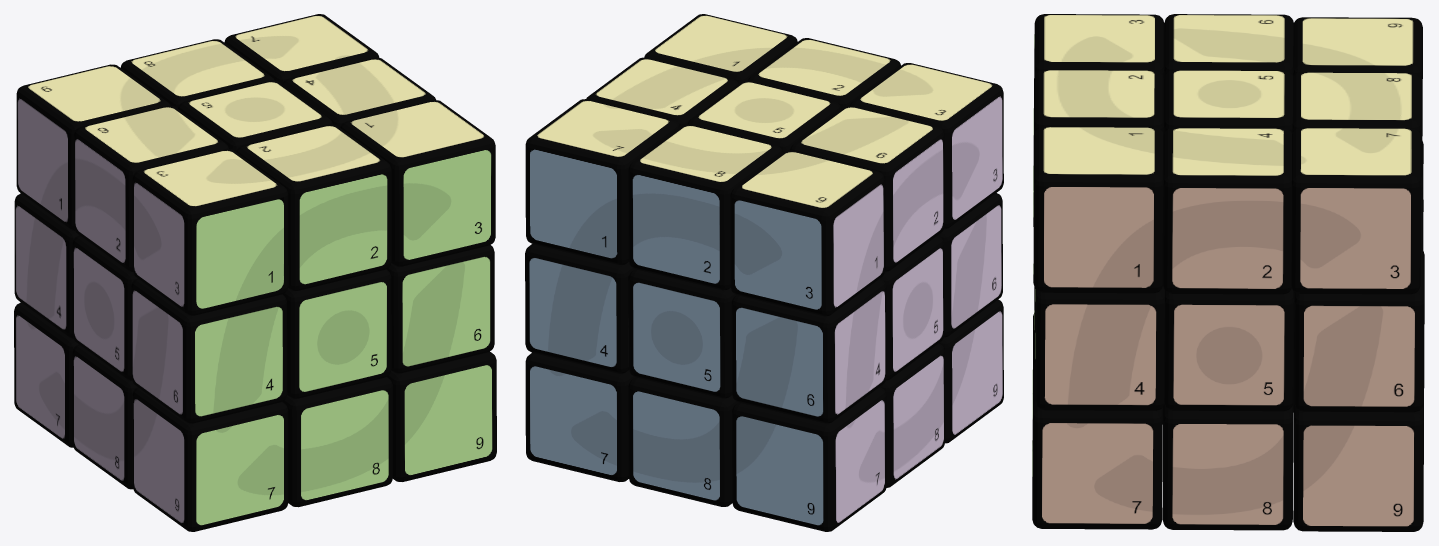
The model's file is Rubix_cube_name_s_cube_default_pastel.glb.
3 renders of one model, left to right at view 1: azimuth 30°, elevation 25°; view 2: azimuth 150°, elevation 25°; view 3: azimuth 270°, elevation 25°, orthographic. The views are drawn at different scales.
Visible parts, largest first — view 1: s3_block_9, s3_block_6, s3_block_2, s3_block_3, s3_block_5, s3_block_8, s3_block_7, s3_block_4, s3_block_1, top_block_3, s4_block_1, s4_block_6 (+34 smaller); view 2: s1_block_9, s1_block_4, s1_block_3, s1_block_5, s1_block_8, s1_block_6, s1_block_2, s1_block_1, s1_block_7, top_block_9, s4_block_5, s4_block_4 (+34 smaller); view 3: s2_block_5, s2_block_9, s2_block_3, s2_block_8, s2_block_2, s2_block_6, s2_block_4, s2_block_1, s2_block_7, top_block_1, top_block_7, top_block_4 (+21 smaller).
Boxes of the visible parts, bbox=[...] form: s3_block_9: bbox=[404, 364, 492, 476]; s3_block_6: bbox=[402, 255, 490, 367]; s3_block_2: bbox=[299, 172, 387, 285]; s3_block_3: bbox=[403, 148, 491, 261]; s3_block_5: bbox=[299, 280, 387, 393]; s3_block_8: bbox=[301, 388, 388, 501]; s3_block_7: bbox=[196, 413, 283, 526]; s3_block_4: bbox=[195, 305, 282, 417]; s3_block_1: bbox=[196, 199, 283, 308]; top_block_3: bbox=[132, 149, 288, 315]; s4_block_1: bbox=[17, 96, 68, 223]; s4_block_6: bbox=[132, 289, 183, 416]; s1_block_9: bbox=[736, 415, 823, 526]; s1_block_4: bbox=[529, 256, 616, 368]; s1_block_3: bbox=[734, 199, 821, 310]; s1_block_5: bbox=[633, 281, 720, 392]; s1_block_8: bbox=[632, 390, 719, 501]; s1_block_6: bbox=[736, 306, 823, 417]; s1_block_2: bbox=[632, 173, 719, 284]; s1_block_1: bbox=[530, 148, 617, 259]; s1_block_7: bbox=[530, 365, 617, 476]; top_block_9: bbox=[730, 150, 884, 316]; s4_block_5: bbox=[892, 246, 943, 373]; s4_block_4: bbox=[834, 289, 885, 416]; s2_block_5: bbox=[1173, 304, 1284, 405]; s2_block_9: bbox=[1303, 425, 1414, 526]; s2_block_3: bbox=[1300, 188, 1411, 288]; s2_block_8: bbox=[1172, 424, 1283, 524]; s2_block_2: bbox=[1172, 188, 1283, 288]; s2_block_6: bbox=[1303, 305, 1414, 406]; s2_block_4: bbox=[1044, 304, 1156, 405]; s2_block_1: bbox=[1043, 186, 1154, 287]; s2_block_7: bbox=[1041, 423, 1153, 523]; top_block_1: bbox=[1033, 126, 1163, 293]; top_block_7: bbox=[1291, 127, 1421, 294]; top_block_4: bbox=[1163, 127, 1292, 294].
Bounding box in the file's own units: 6.07 × 6.09 × 6.04.
Materials: 7 (6 with a texture image).
